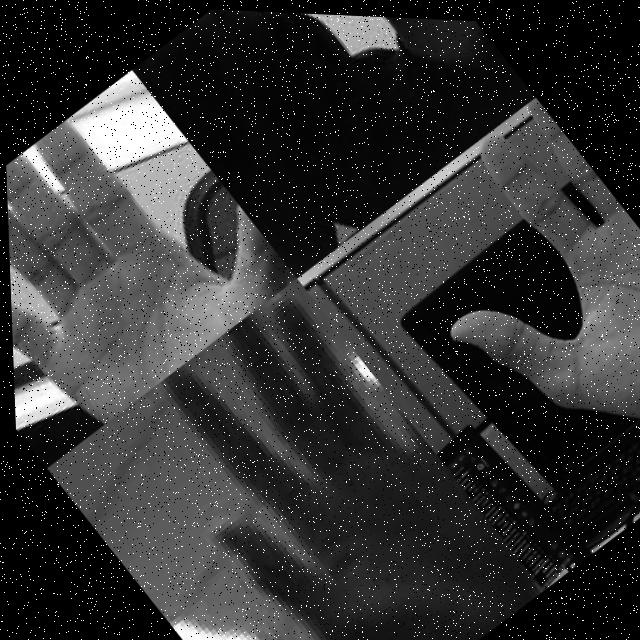hand: (105, 268, 541, 640), (353, 84, 640, 505), (2, 63, 299, 459), (255, 9, 455, 80)
